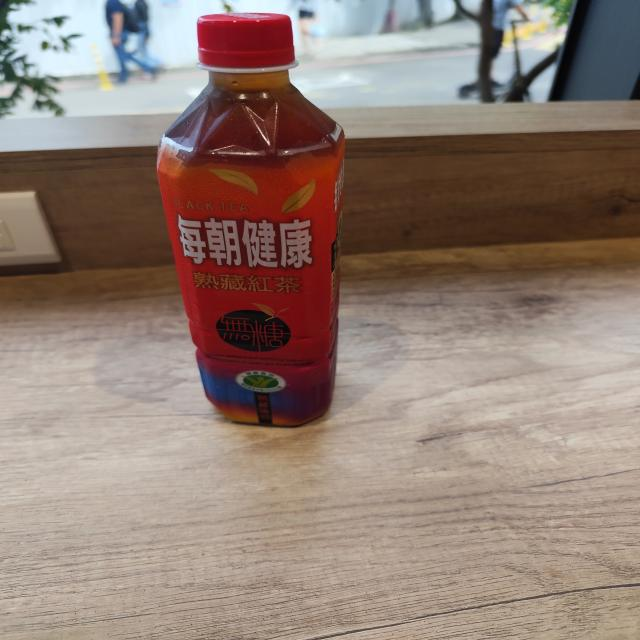MeiChou_BlackTea: (149, 7, 346, 430)
